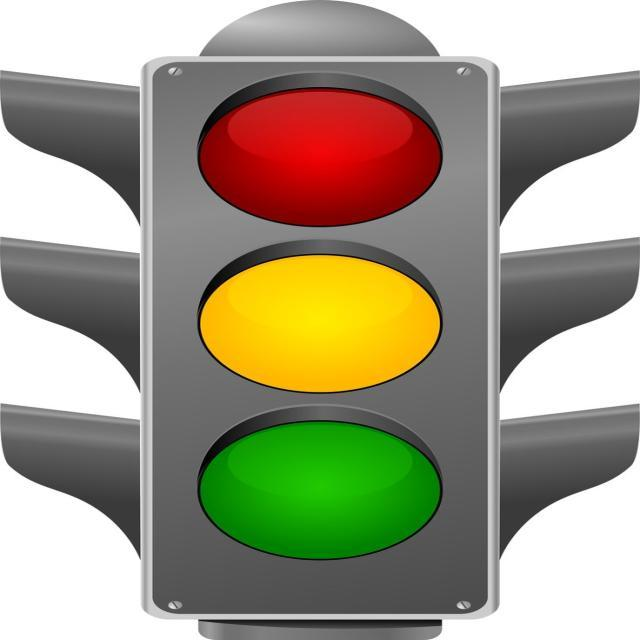suv: (1, 1, 636, 638)
